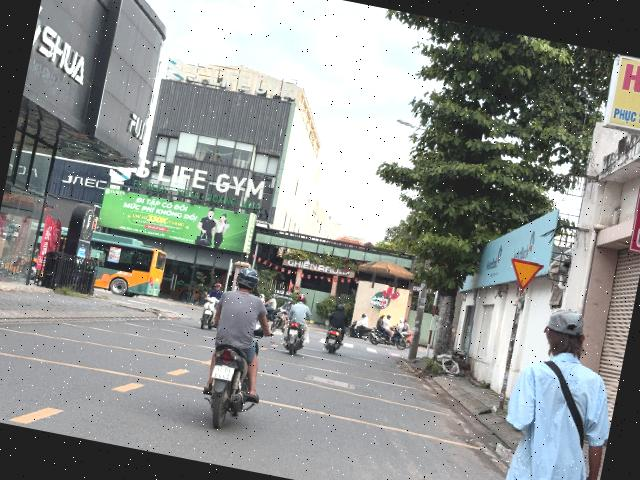giao-nhau-voi-duong-uu-tien: (504, 256, 544, 294)
